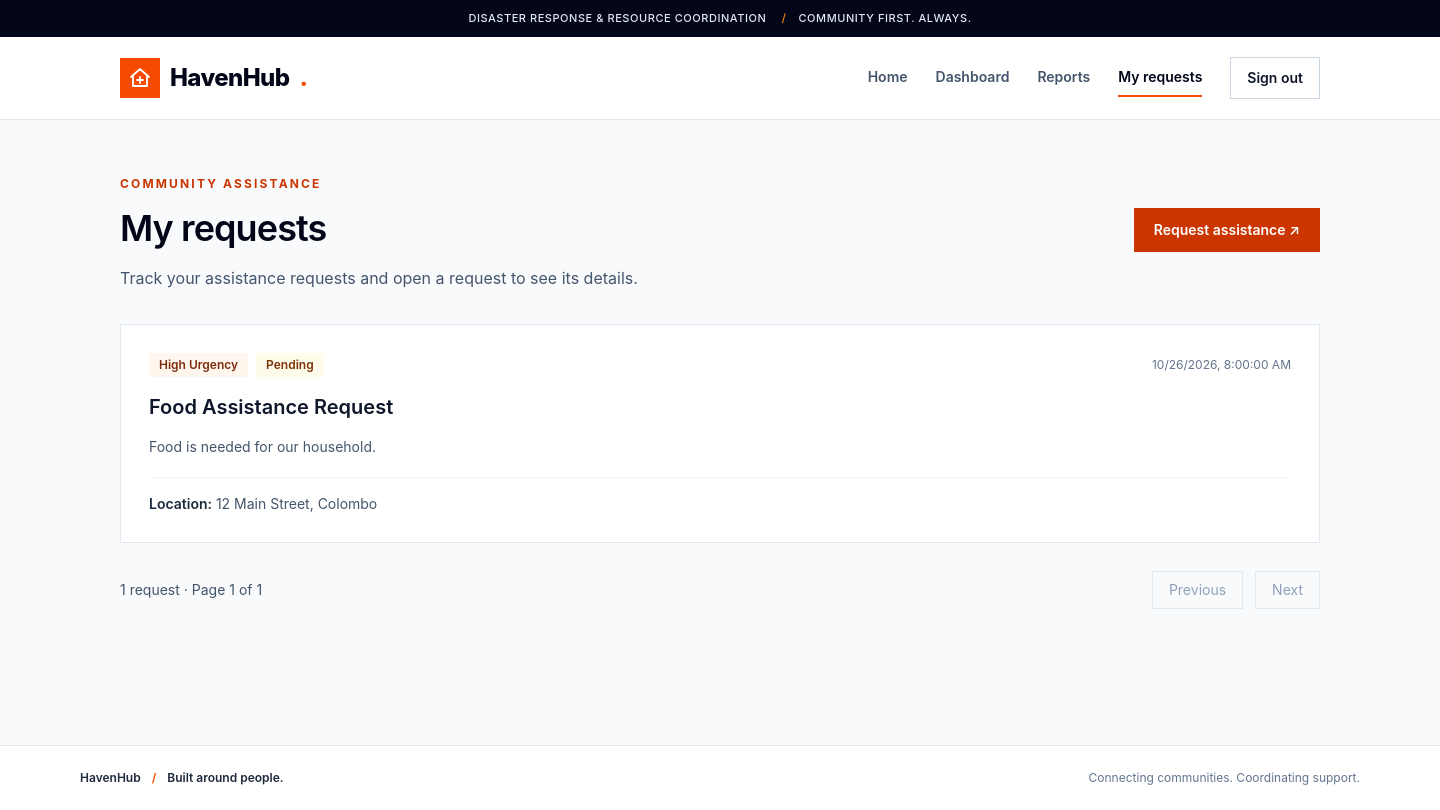
Test: My Requests loads the ownership-scoped endpoint and opens the request detail
Step 1. Click the link "food assistance request" → (173, 406), box [149, 394, 393, 418]
(page scrolled)
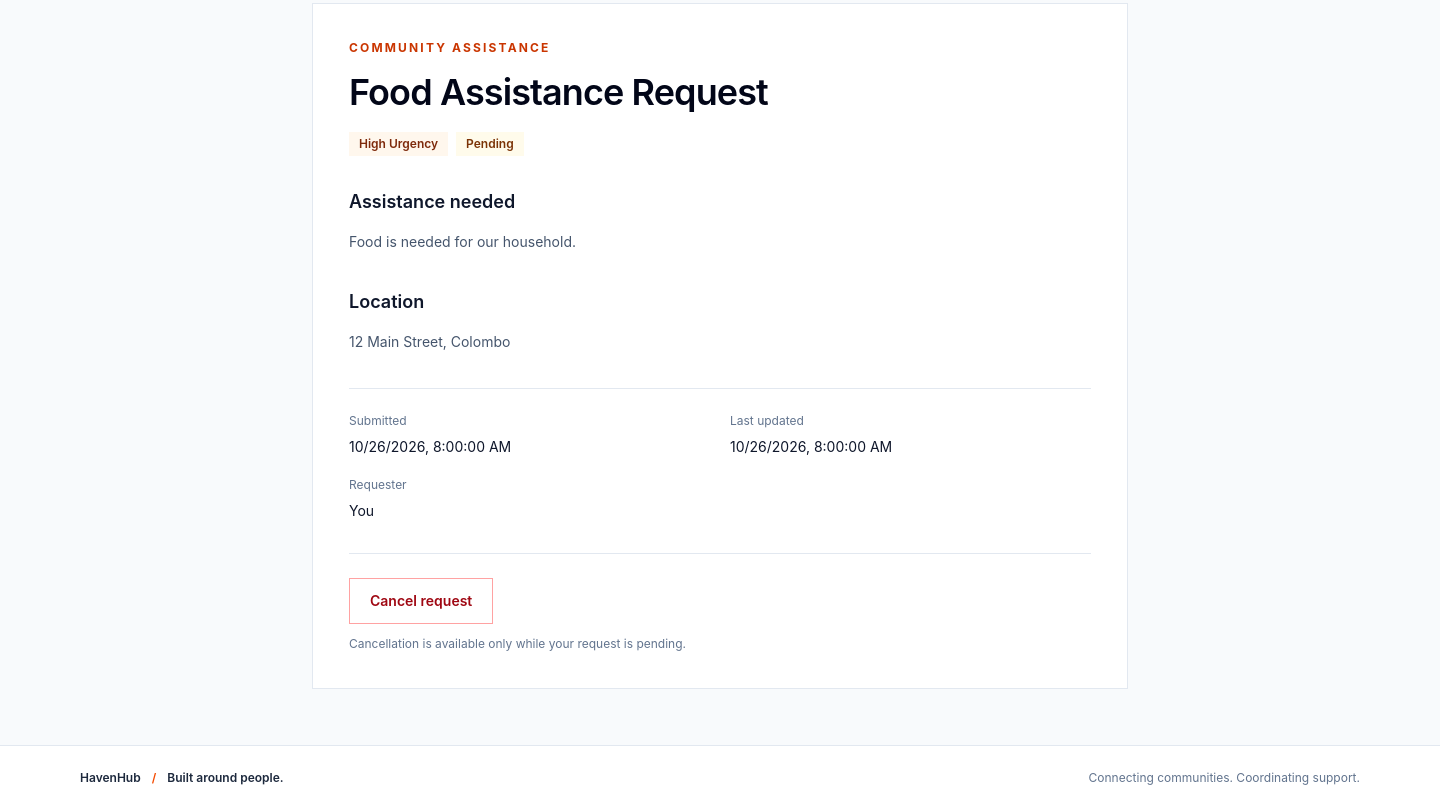
Expected: the heading "food assistance request" is shown, [349, 70, 768, 114]
Now the button "Cancel request" is shown, box [349, 578, 493, 624]
